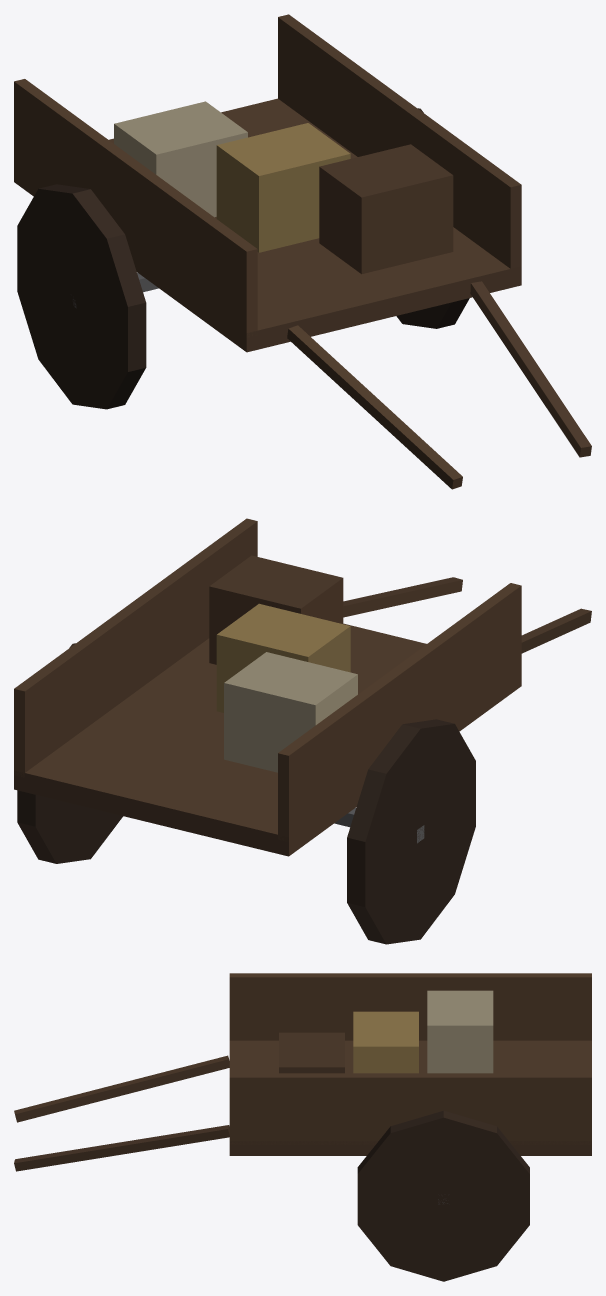
The model's file is walk_prop_cart.glb.
The picture shows the model from 3 angles, top to bottom: view 1: azimuth 30°, elevation 25°; view 2: azimuth 150°, elevation 25°; view 3: azimuth 270°, elevation 25°; orthographic projection. The views are drawn at different scales.
Visible parts, largest first — view 1: walk_prop_cart; view 2: walk_prop_cart; view 3: walk_prop_cart.
Part boxes in pixels (left/top/right/bottom): walk_prop_cart: left=14, top=14, right=591, bottom=489; walk_prop_cart: left=14, top=518, right=591, bottom=944; walk_prop_cart: left=14, top=973, right=591, bottom=1281.
Bounding box in the file's own units: 1.9 × 1.27 × 3.51.
2 materials, 2 textured.
